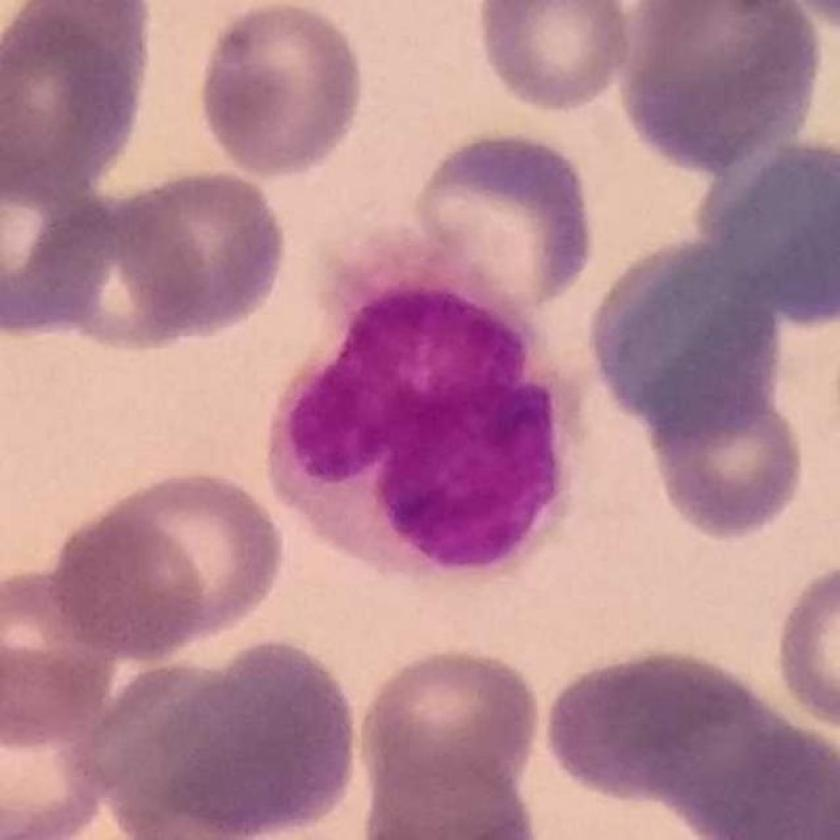monocyte: (266, 236, 598, 592)
